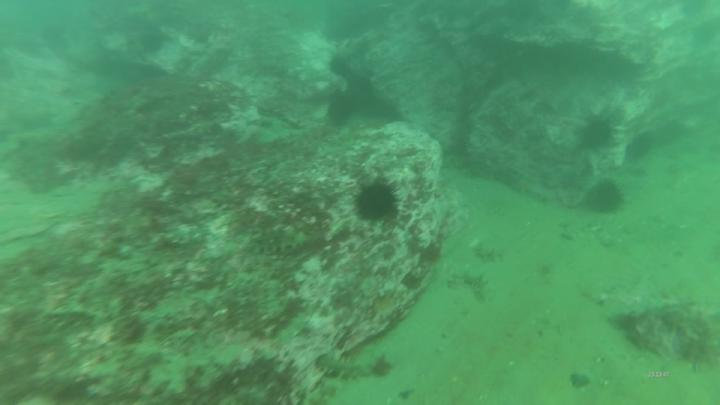echinus: (347, 173, 410, 226), (568, 109, 621, 158), (591, 176, 625, 218), (327, 90, 357, 132), (327, 48, 354, 86), (622, 132, 655, 162)
holothurian: (315, 353, 377, 385)
